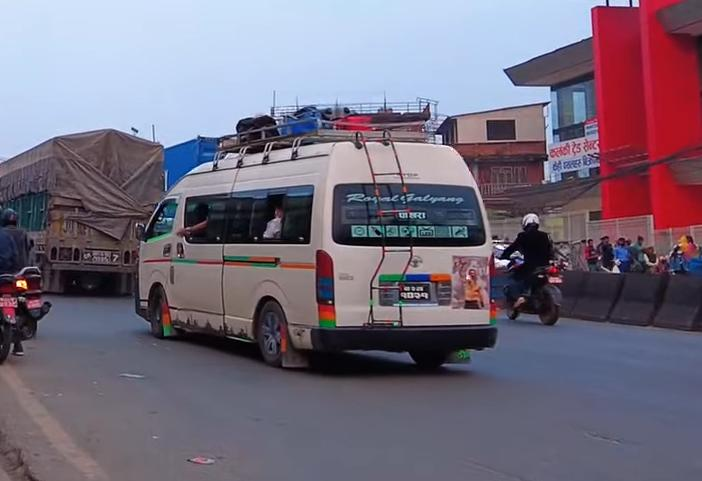bike: (502, 248, 568, 329)
micro_bus: (124, 111, 507, 376)
truck: (0, 126, 168, 291)
